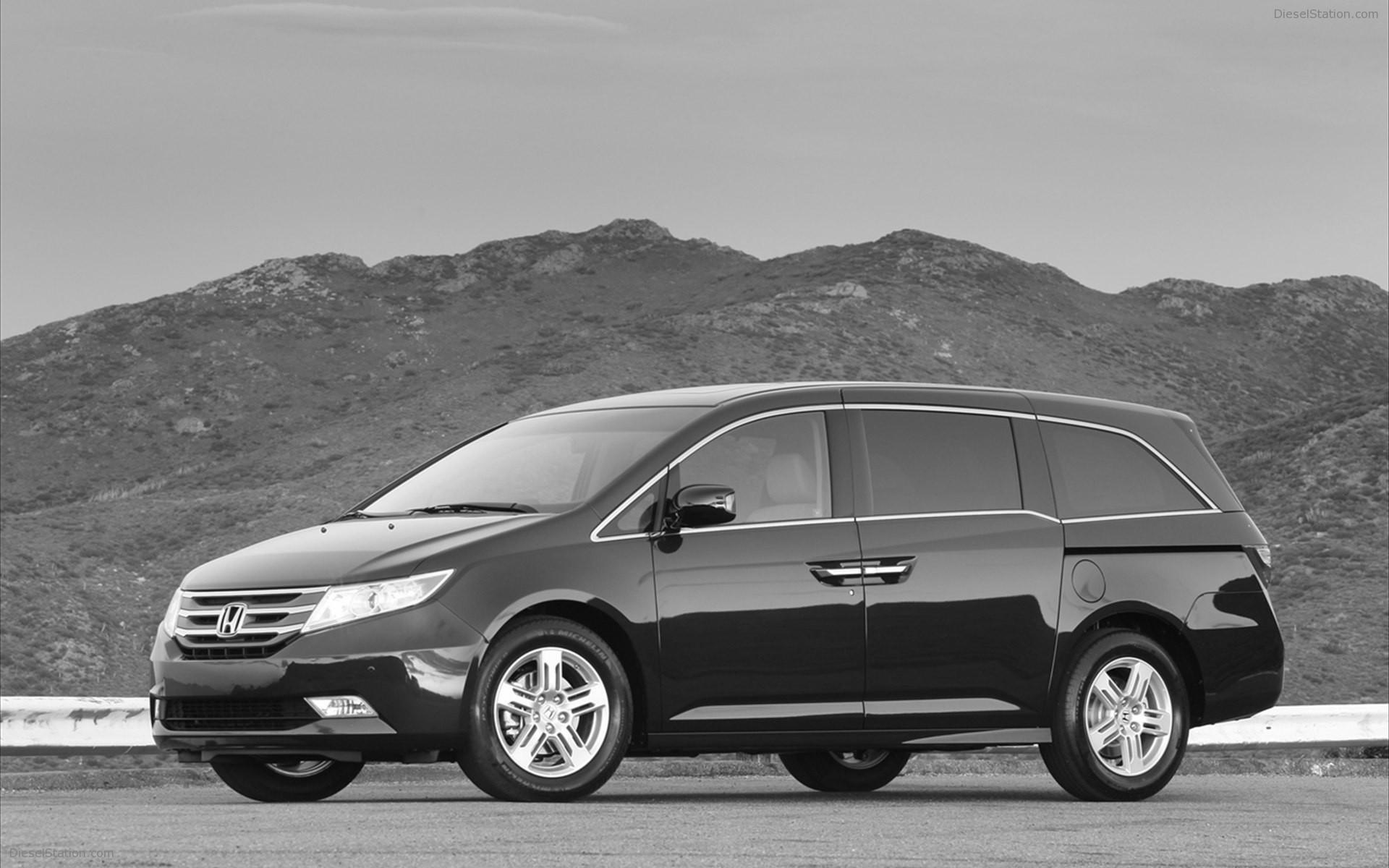car: (140, 372, 1292, 808)
